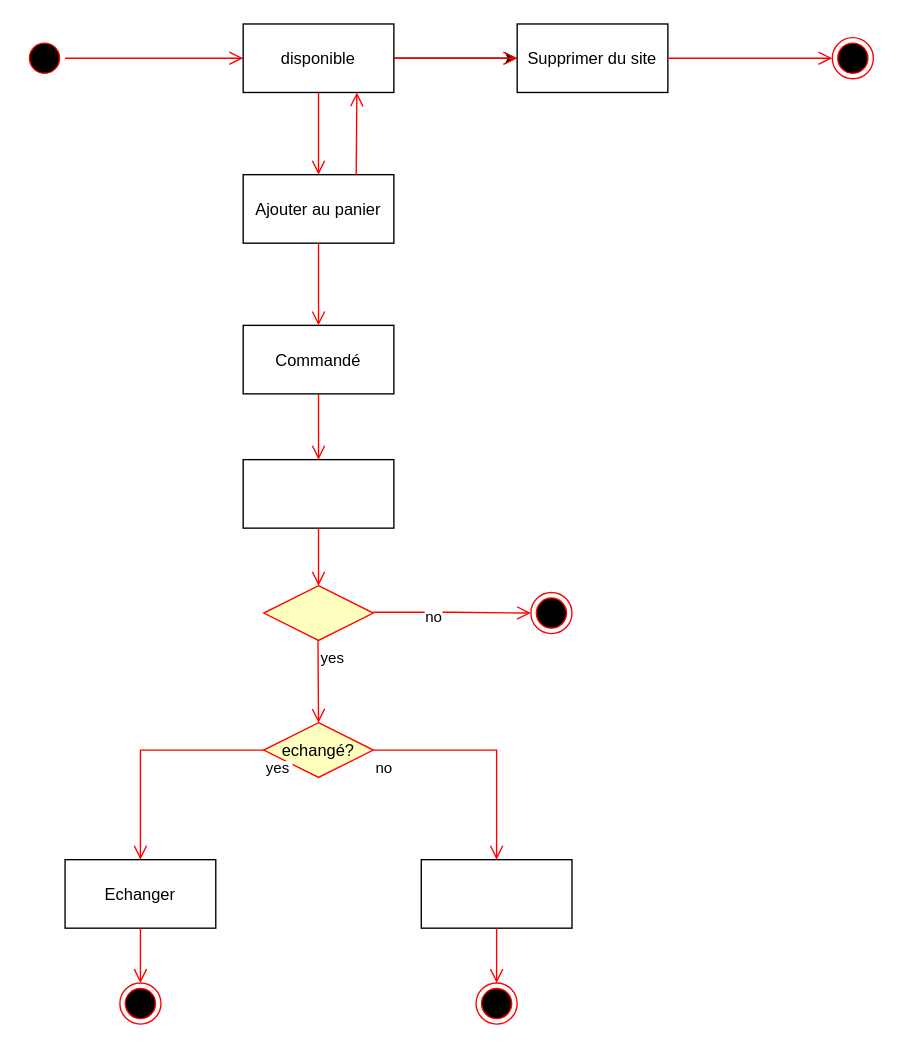
Image size: 897x1048. Some labels were removed from this diagram. Each missing label, with the centre of its shape:
"Livré" belongs at (x=318, y=493).
"Retourner" belongs at (x=496, y=893).
"réclamation?" belongs at (x=317, y=612).
